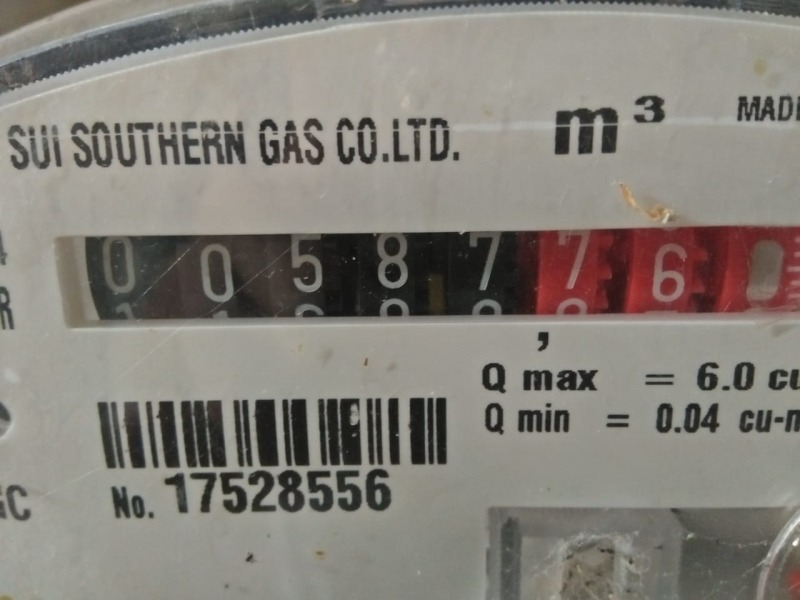ssgc: (51, 225, 799, 324)
